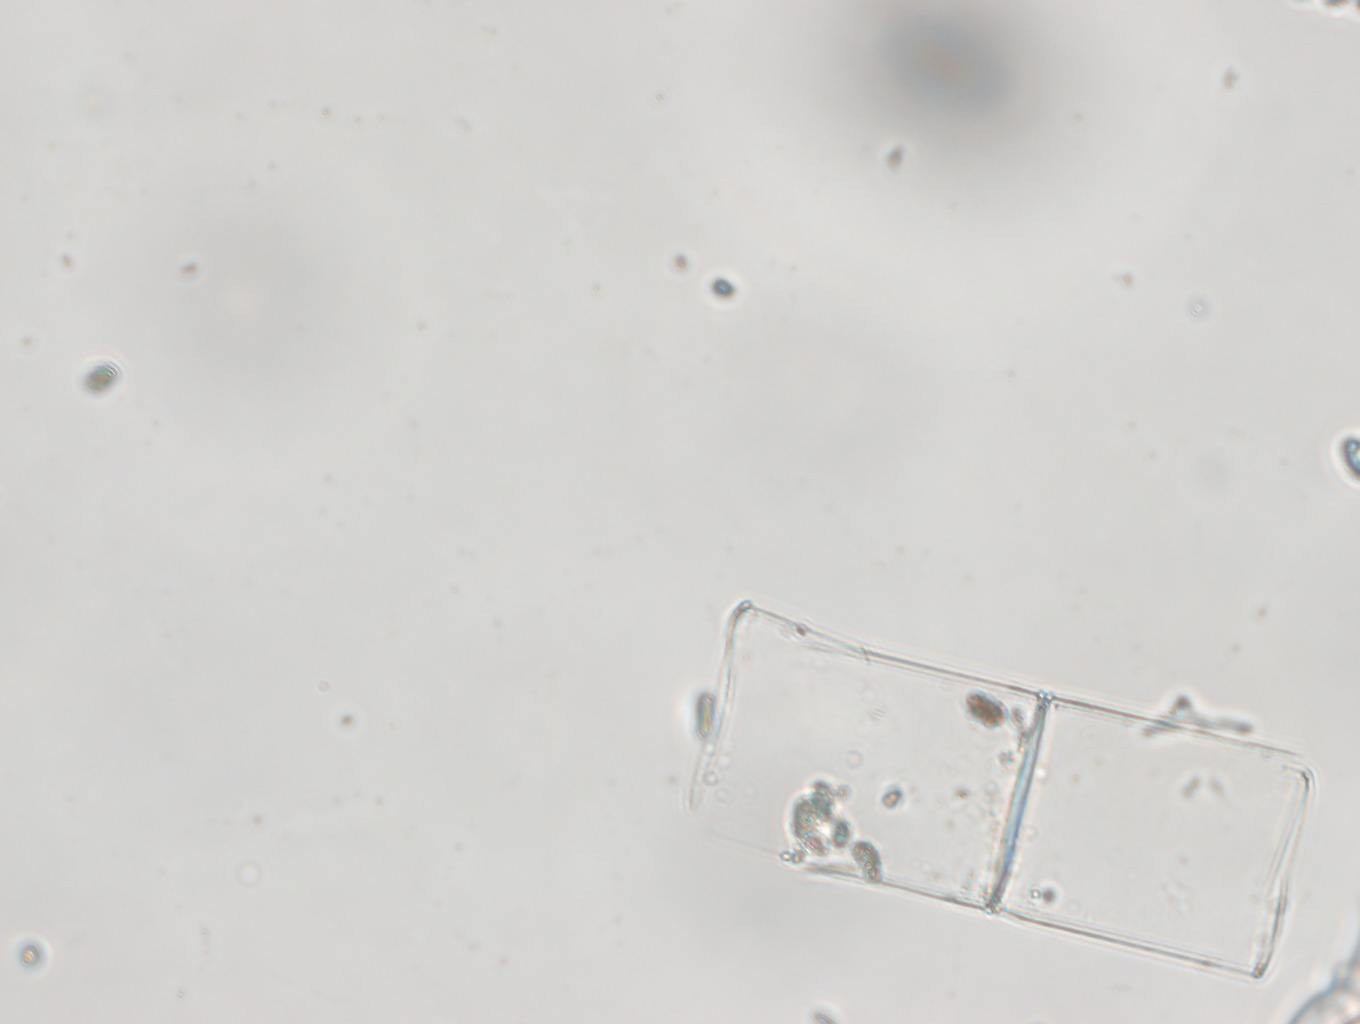guinardia flaccida: (689, 599, 1320, 981)
